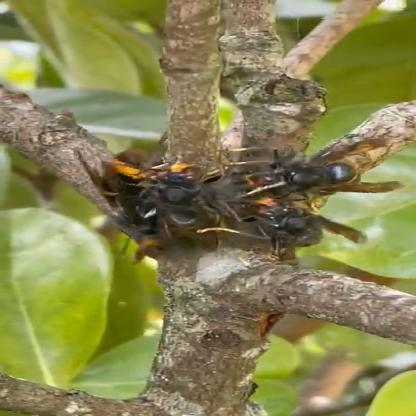bee: (57, 120, 402, 274)
